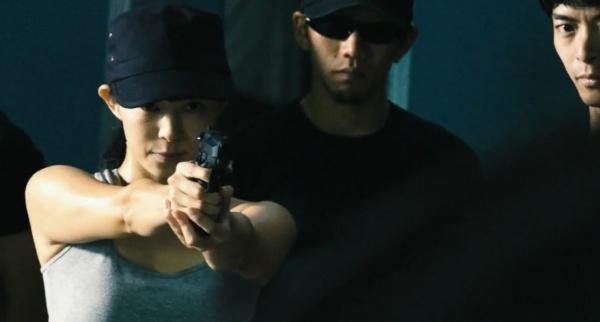Gun: (195, 130, 249, 184)
